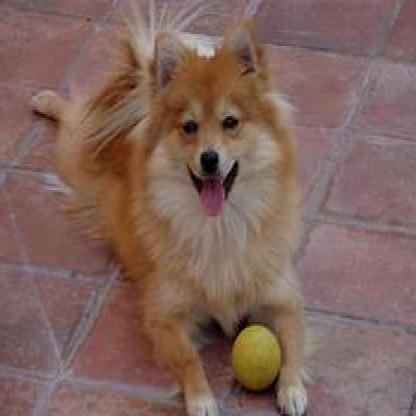dog: (33, 16, 313, 414)
